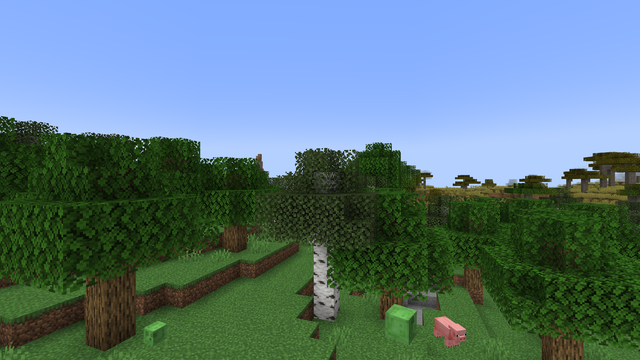cochons: (436, 315, 459, 348)
slimes: (387, 303, 413, 344), (143, 320, 167, 346)
